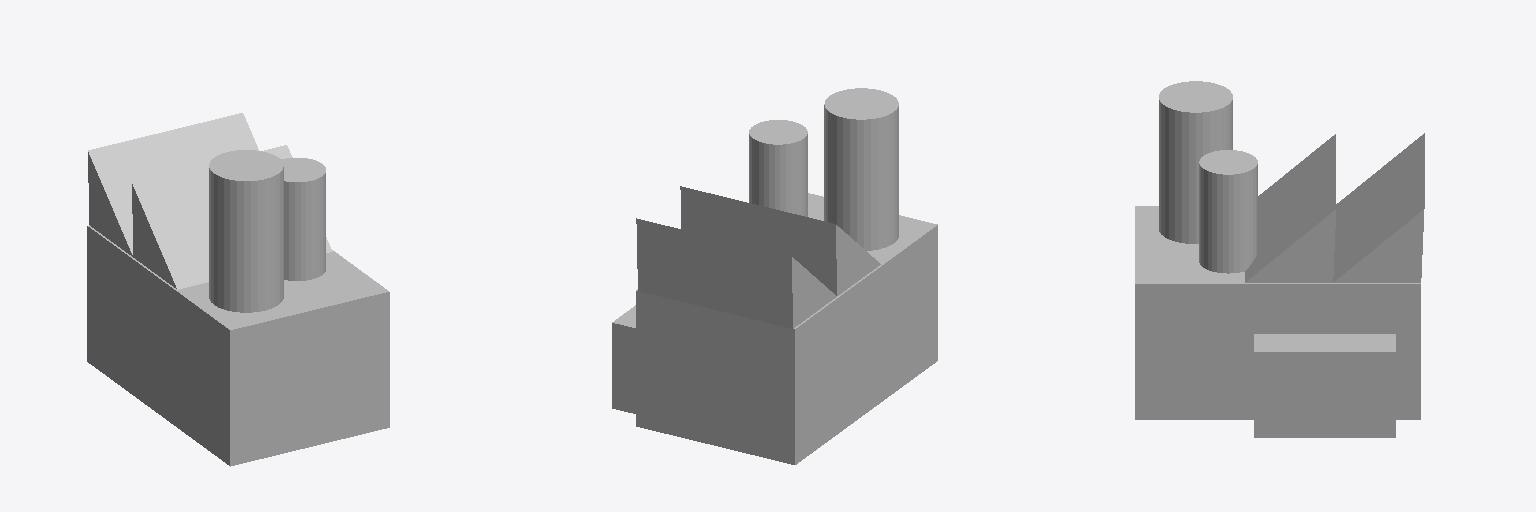
The model's file is Factory.obj.
3 views of the same model, side by side, from view 1: azimuth 30°, elevation 25°; view 2: azimuth 150°, elevation 25°; view 3: azimuth 270°, elevation 25° (orthographic).
Parts seen in each view (by area): view 1: Cube; view 2: Cube; view 3: Cube.
Boxes of the visible parts, box(x1,y1,x2,y2) form: Cube: box(87, 113, 389, 466); Cube: box(612, 88, 937, 464); Cube: box(1135, 81, 1424, 437).
Size of the model in its own units: 1.27 by 1.66 by 1.63.